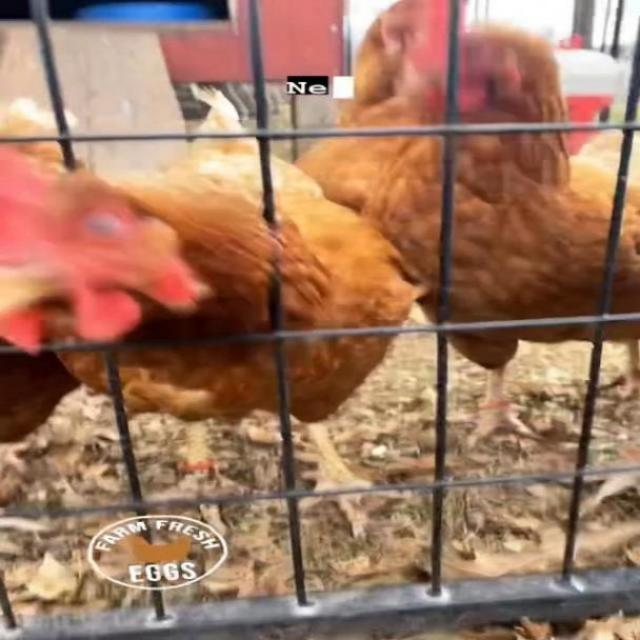Chicken: (0, 85, 415, 535), (378, 2, 640, 446), (0, 97, 100, 529), (294, 28, 395, 216)
